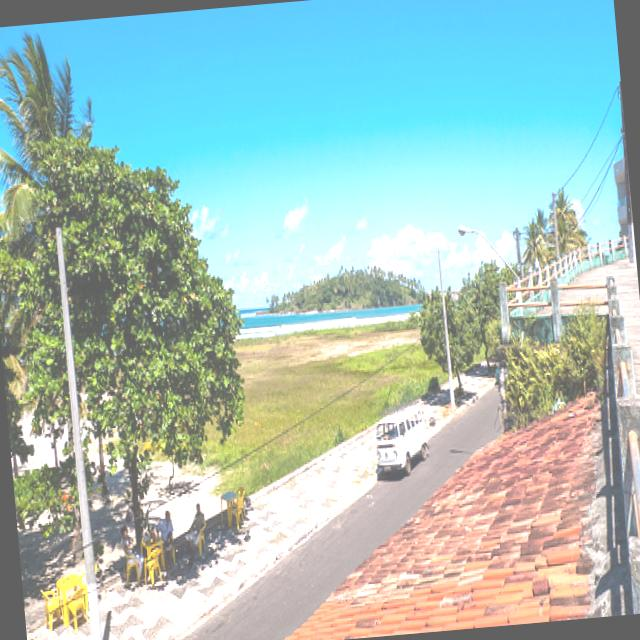Vehicle: (369, 398, 432, 480)
